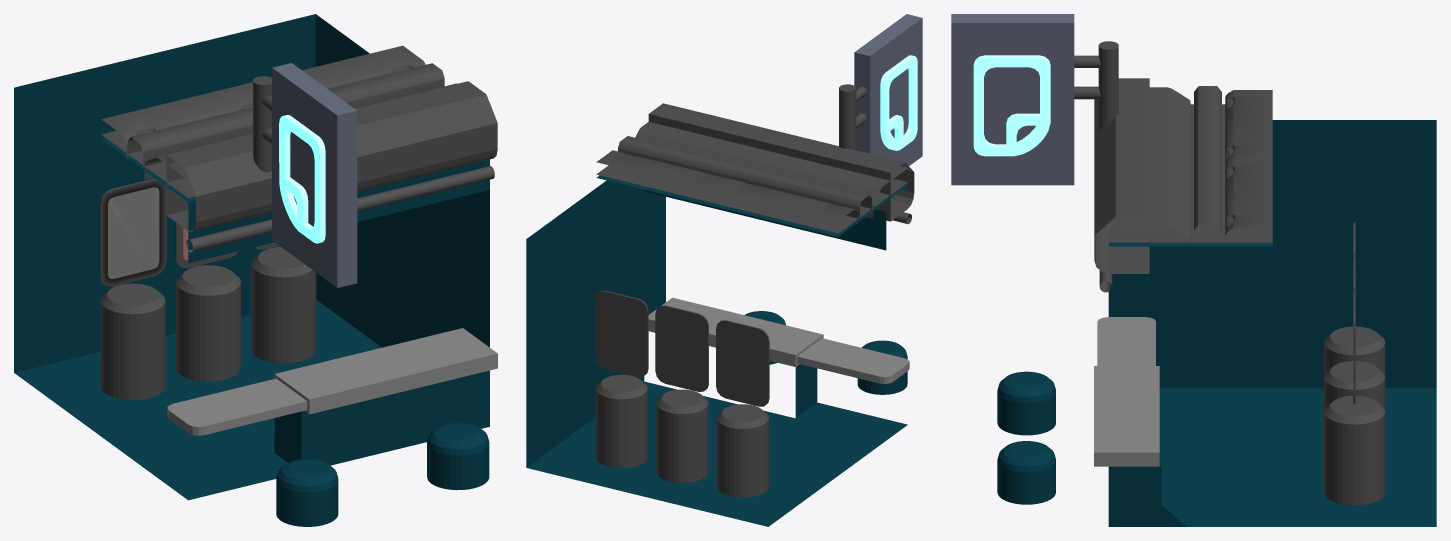
Rendered from MB_Shop_Sticker_Vendor.fbx.
3 renders of one model, left to right at view 1: azimuth 30°, elevation 25°; view 2: azimuth 150°, elevation 25°; view 3: azimuth 270°, elevation 25°, orthographic. The views are drawn at different scales.
Parts seen in each view (by area): view 1: Cube.6561, Cube.6560; view 2: Cube.6561, Cube.6560; view 3: Cube.6561, Cube.6560.
Boxes of the visible parts, <box> form: Cube.6561: <box>14,14,497,526</box>; Cube.6560: <box>253,63,357,287</box>; Cube.6561: <box>526,103,914,526</box>; Cube.6560: <box>839,14,922,165</box>; Cube.6561: <box>997,78,1436,526</box>; Cube.6560: <box>951,14,1118,185</box>.
Size of the model in its own units: 4 by 5.45 by 5.92.
